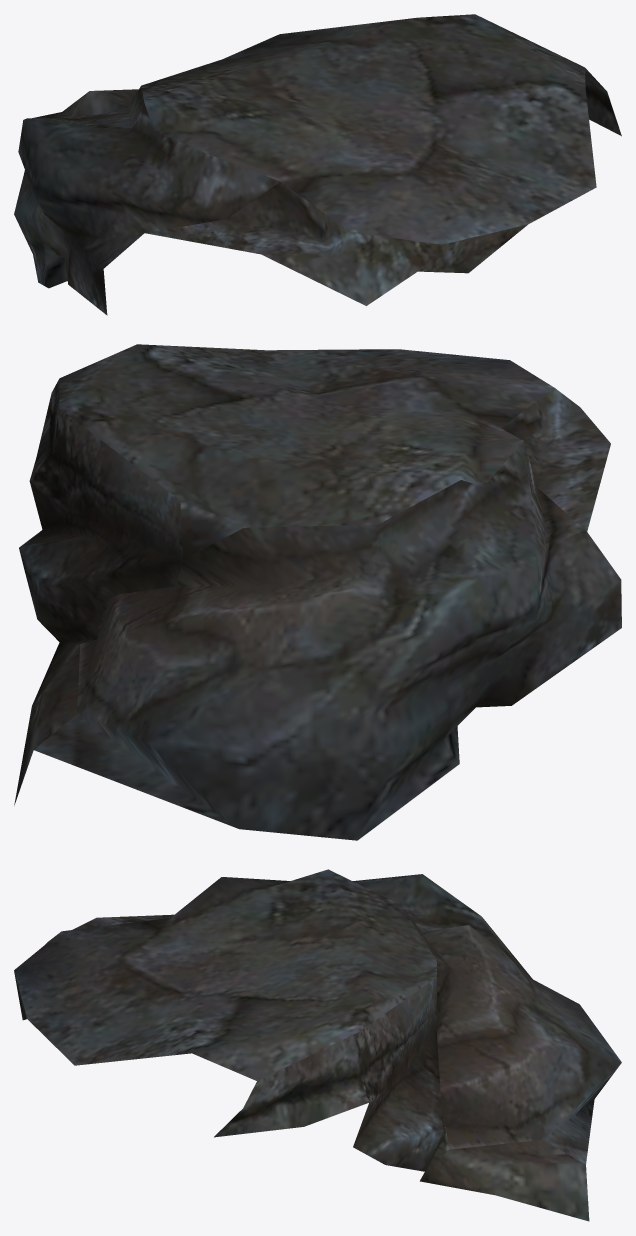
File: S_Rock_Yellow036_H05.FBX
3 renders of one model, top to bottom at view 1: azimuth 30°, elevation 25°; view 2: azimuth 150°, elevation 25°; view 3: azimuth 270°, elevation 25°, orthographic. The views are drawn at different scales.
Visible parts, largest first — view 1: S_Rock_Yellow036_H05; view 2: S_Rock_Yellow036_H05; view 3: S_Rock_Yellow036_H05.
Part boxes in pixels (<box>): S_Rock_Yellow036_H05: <box>14,14,621,315</box>; S_Rock_Yellow036_H05: <box>14,344,621,840</box>; S_Rock_Yellow036_H05: <box>14,869,621,1221</box>.
Size of the model in its own units: 905 by 1019 by 434.
Materials: 1 (1 with a texture image).
